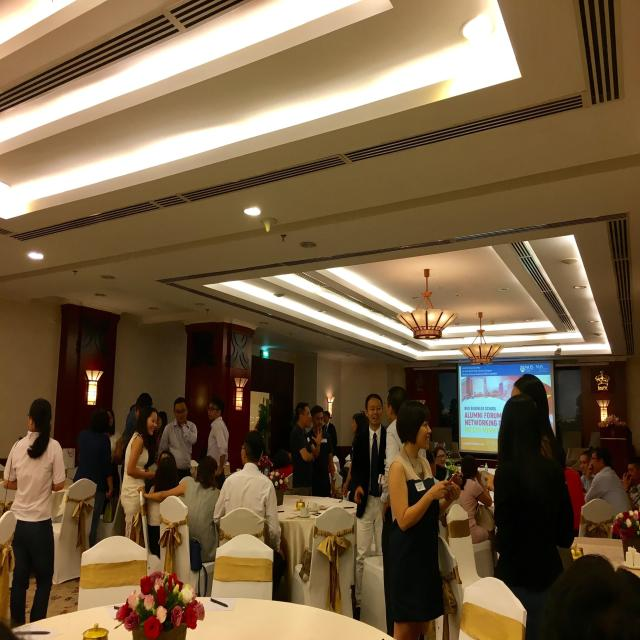body: (488, 390, 573, 640), (383, 399, 456, 640), (2, 396, 68, 630), (213, 431, 287, 599), (138, 454, 222, 564), (350, 391, 388, 623), (380, 386, 427, 524), (72, 407, 111, 561), (510, 372, 568, 472), (119, 405, 159, 543), (583, 444, 634, 540), (156, 397, 198, 482), (146, 456, 180, 560), (459, 454, 494, 552), (293, 401, 323, 496), (308, 405, 336, 499), (342, 412, 369, 501), (206, 395, 230, 491), (103, 407, 123, 499), (562, 461, 583, 544), (152, 449, 182, 497), (128, 406, 168, 432), (622, 456, 640, 512), (321, 410, 338, 458), (579, 450, 596, 497), (432, 445, 454, 481), (427, 457, 442, 489)
